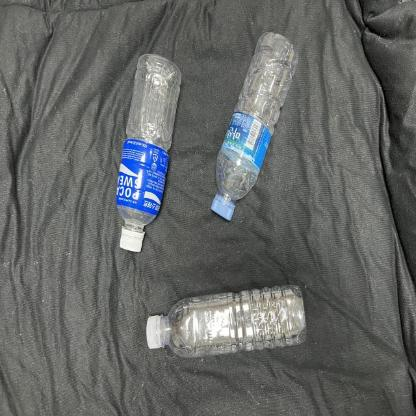Plastic Bottle: (210, 31, 298, 221), (115, 52, 182, 252), (145, 284, 306, 358)
